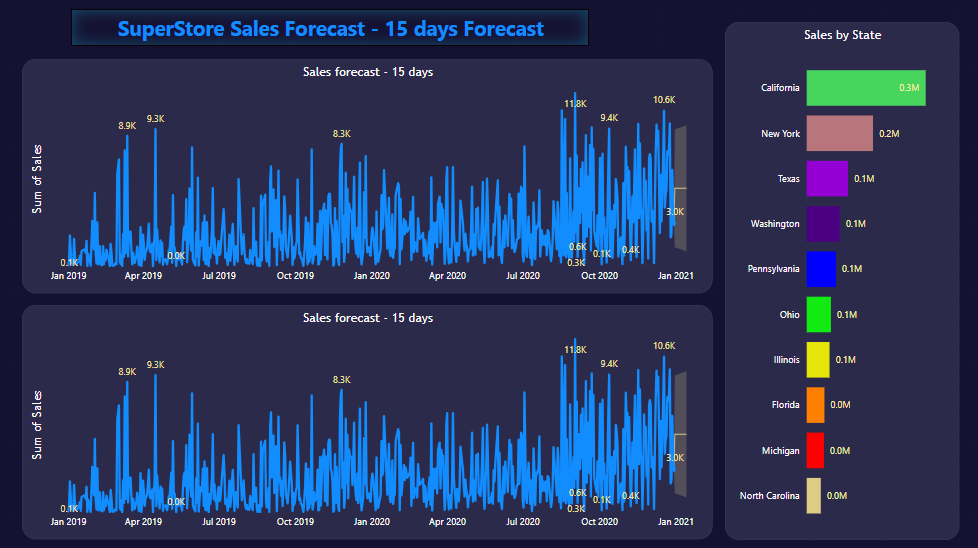

Layout of this report page (visuals, bound fields, positions):
{"tool":"powerbi","page":{"name":"Page 2","canvas":[1280,720],"ordinal":1},"visuals":[{"type":"lineChart","title":"Sales forecast - 15 days","fields":{"Y":["Sum(SuperStore_Sales_Dataset.Sales)"],"Category":["SuperStore_Sales_Dataset.Order Date"]},"box":[32,80,896,304],"z":0},{"type":"lineChart","title":"Sales forecast - 15 days","fields":{"Y":["Sum(SuperStore_Sales_Dataset.Sales)"],"Category":["SuperStore_Sales_Dataset.Order Date"]},"box":[32,400,896,304],"z":1000},{"type":"clusteredBarChart","title":"Sales by State","fields":{"Category":["SuperStore_Sales_Dataset.State"],"Y":["Sum(SuperStore_Sales_Dataset.Sales)"]},"box":[944,32,304,672],"z":2000},{"type":"textbox","box":[96,16,672,48],"z":3000}]}

Visuals, with their boxes in screenshot pixels (x1, y1, x2, y2), scaled from the page's 1280x720 canvas onto the 978x548 screenshot:
"Sales forecast - 15 days" lineChart: <region>24, 61, 709, 292</region>
"Sales forecast - 15 days" lineChart: <region>24, 304, 709, 536</region>
"Sales by State" clusteredBarChart: <region>721, 24, 954, 536</region>
textbox: <region>73, 12, 587, 49</region>
